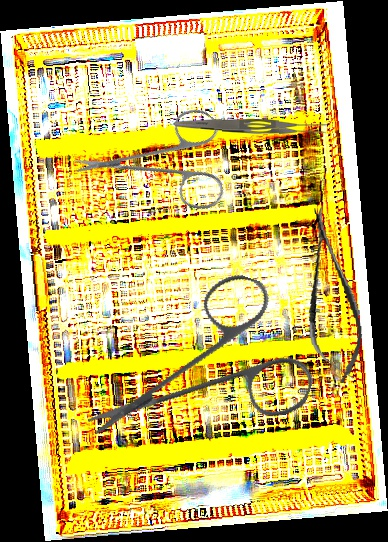Dressing Forceps: (172, 117, 329, 137)
Iris Scissors: (84, 243, 339, 495), (68, 66, 259, 257)
Micro Scissor: (293, 203, 370, 387)
